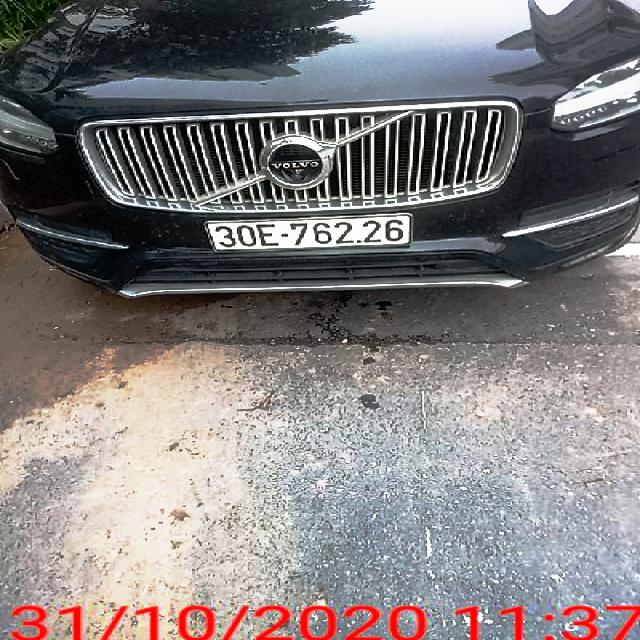license_plate: (205, 215, 416, 254)
